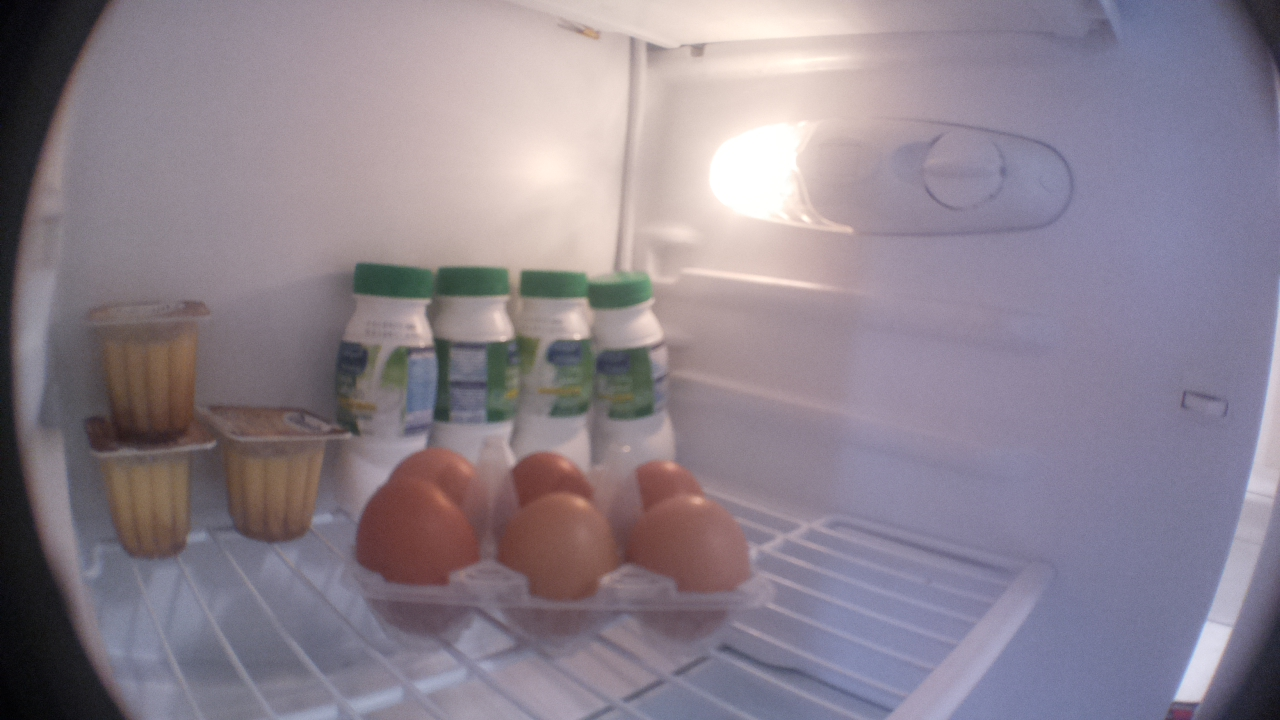caramel: (195, 391, 350, 544), (70, 411, 219, 564), (76, 290, 215, 443)
egg: (352, 476, 483, 647), (486, 494, 622, 648), (633, 496, 760, 643), (381, 447, 489, 492), (499, 453, 599, 493), (619, 455, 711, 496)
laban: (327, 256, 435, 464), (427, 266, 527, 460), (590, 263, 678, 451), (512, 261, 596, 451)
